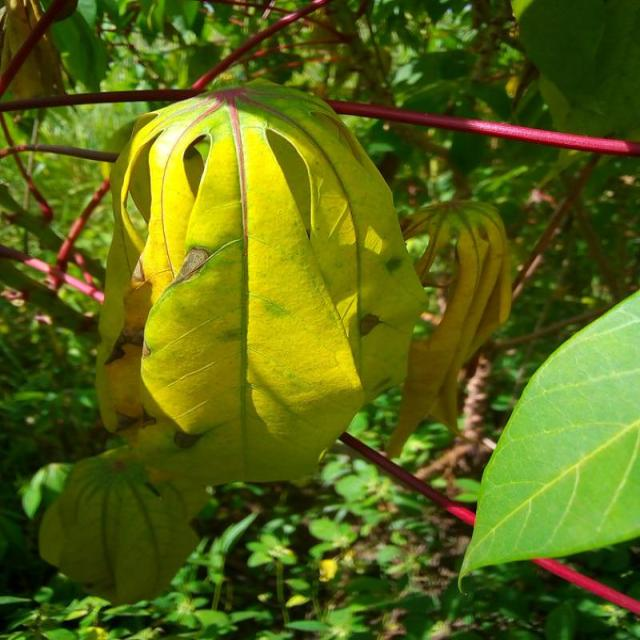cassava leaf: (94, 75, 429, 488), (457, 287, 638, 593), (37, 441, 207, 606)
